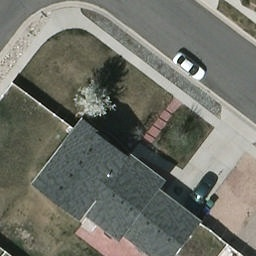car: (172, 50, 208, 82)
pickup: (180, 173, 220, 214)
